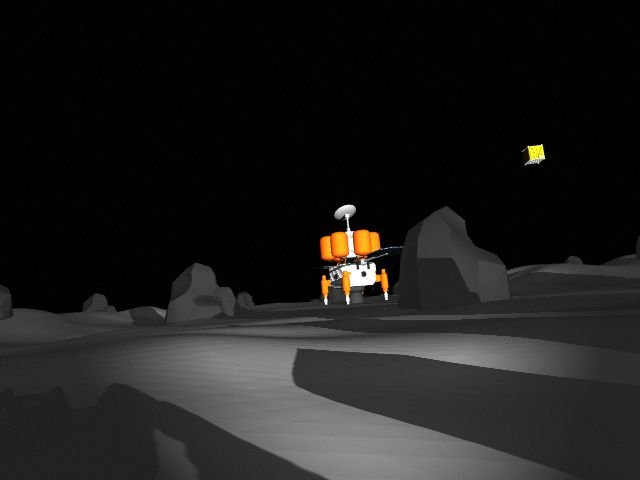homebase: (296, 202, 407, 310)
